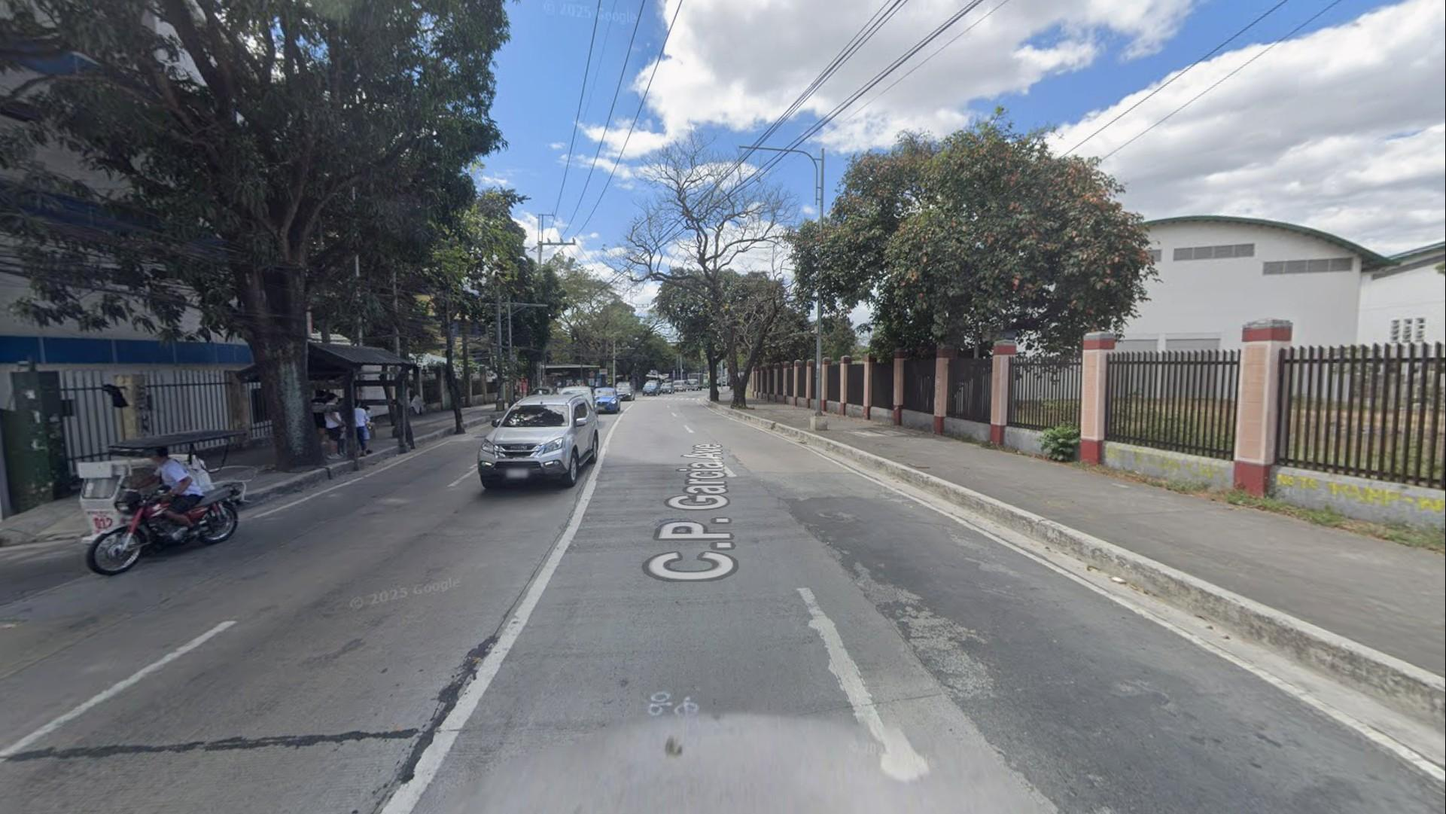pedestrian: (323, 392, 344, 461), (350, 397, 368, 457), (358, 405, 373, 454)
